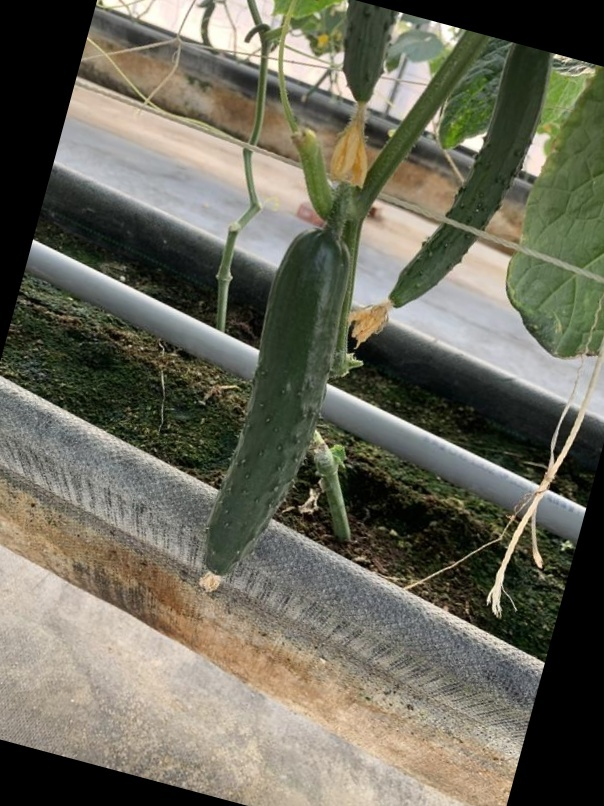mature: (195, 233, 352, 584), (381, 48, 551, 320)
